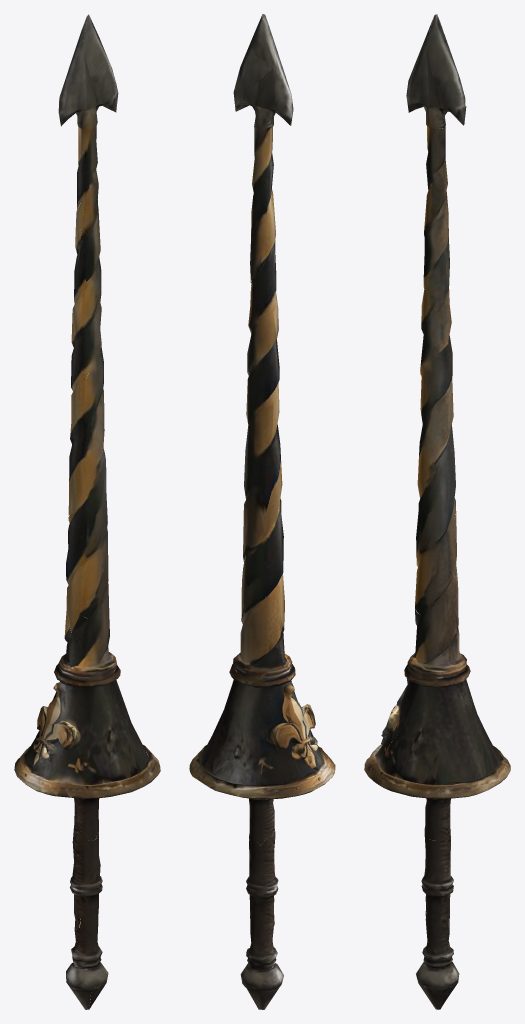
The model's file is gold_jousting_lance.glb.
3 views of the same model, side by side, from view 1: azimuth 30°, elevation 25°; view 2: azimuth 150°, elevation 25°; view 3: azimuth 330°, elevation 25° (orthographic).
Visible parts, largest first — view 1: gold_jousting_lance; view 2: gold_jousting_lance; view 3: gold_jousting_lance.
Part boxes in pixels (x1,y1,x2,y2): gold_jousting_lance: [14, 14, 160, 1009]; gold_jousting_lance: [189, 14, 335, 1009]; gold_jousting_lance: [364, 14, 510, 1009].
Bounding box in the file's own units: 0.3954 × 3 × 0.3854.
1 material, 1 textured.
